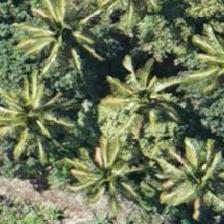coconut_tree: (86, 56, 176, 146), (83, 123, 173, 213), (4, 79, 94, 169), (150, 133, 223, 223), (0, 0, 77, 69)
